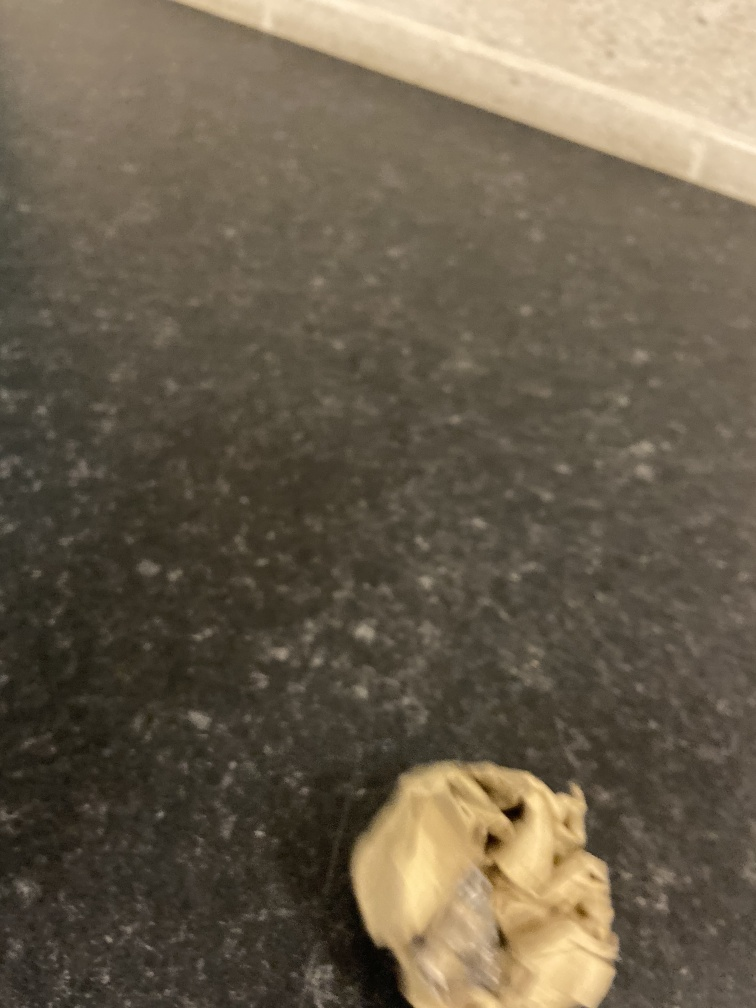paper_brown: (349, 755, 627, 1008)
